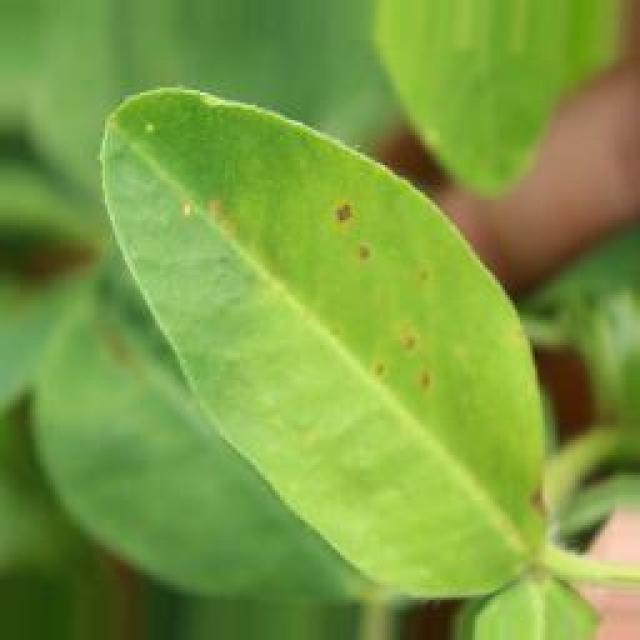Sigatoka: (320, 183, 390, 290), (168, 185, 251, 274), (372, 312, 436, 397), (397, 249, 462, 316), (526, 472, 565, 541)
